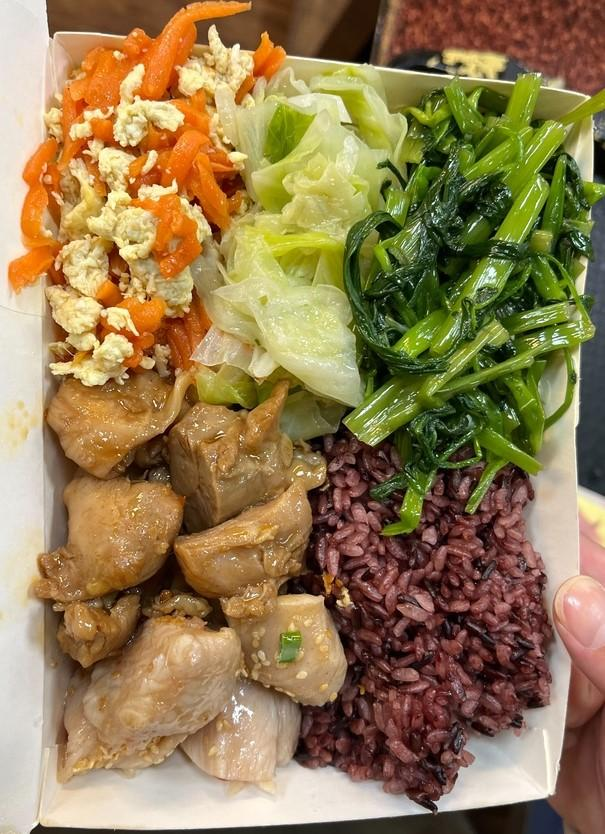big grilled chicken leg: (0, 8, 605, 834)
braised fish: (307, 418, 554, 800)
braised fish fillet: (353, 90, 592, 480), (23, 22, 244, 378), (238, 68, 385, 389)
braised pork: (47, 378, 339, 797)
